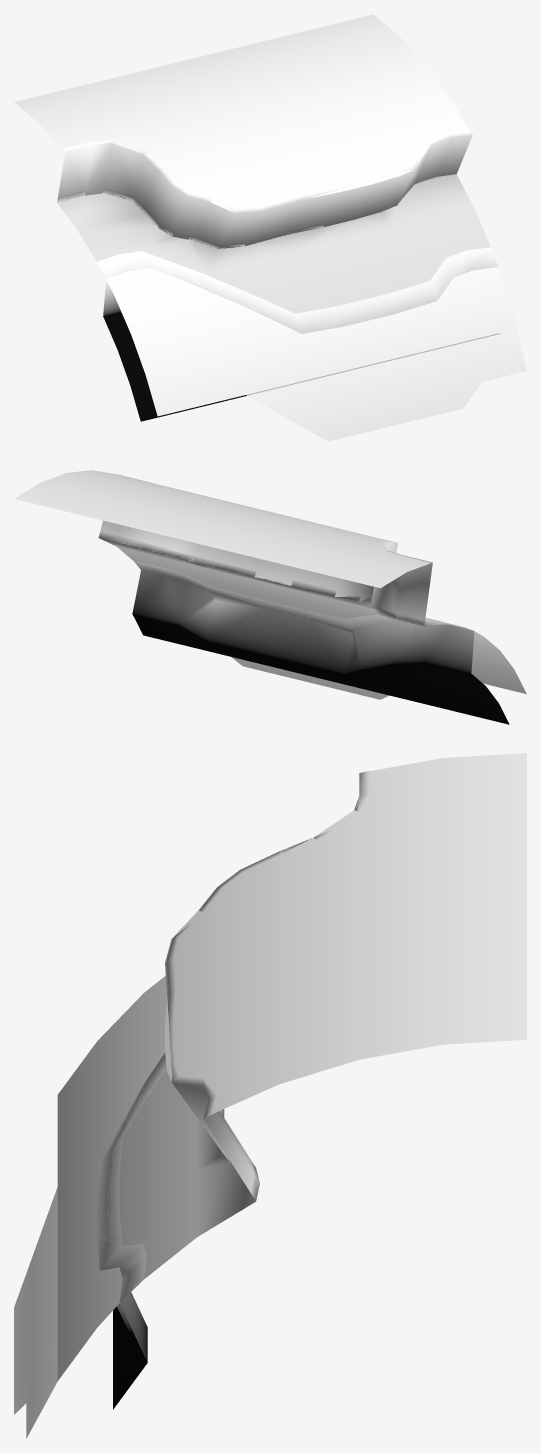
Rendered from grd_Msw_s_2.dae.
3 views of the same model, one above another, from view 1: azimuth 30°, elevation 25°; view 2: azimuth 150°, elevation 25°; view 3: azimuth 270°, elevation 25° (orthographic). The views are drawn at different scales.
Parts seen in each view (by area): view 1: grd_Msw_s_2; view 2: grd_Msw_s_2; view 3: grd_Msw_s_2.
Part boxes in pixels (bbox=[...]): grd_Msw_s_2: bbox=[14, 14, 526, 441]; grd_Msw_s_2: bbox=[14, 470, 526, 724]; grd_Msw_s_2: bbox=[14, 753, 526, 1438].
Size of the model in its own units: 512 by 357 by 387.
6 materials, 1 textured.
